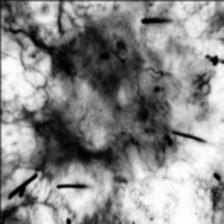Potentially Malignant Skin Tumors: (46, 8, 148, 160)
